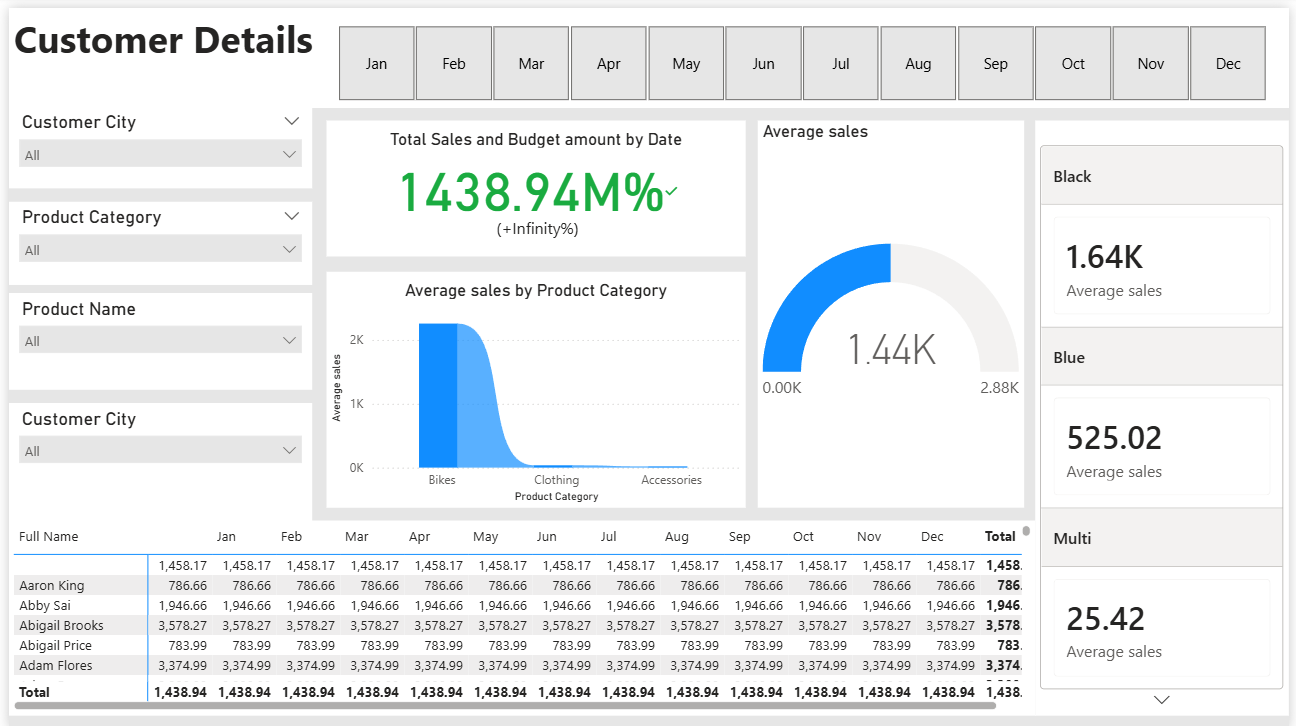

Layout of this report page (visuals, bound fields, positions):
{"tool":"powerbi","page":{"name":"Customer Details","canvas":[1280,720],"ordinal":1},"visuals":[{"type":"textbox","box":[0,0,1280,100],"z":0},{"type":"slicer","fields":{"Values":["Dimension Customer.Customer City"]},"box":[0,99.4,303.2,81.5],"z":1000},{"type":"slicer","fields":{"Values":["Dimension Customer.Customer City"]},"box":[0,394.9,303.2,312.1],"z":2000},{"type":"slicer","fields":{"Values":["Dimension Product.Product Name"]},"box":[0,285.4,303.2,96.8],"z":3000},{"type":"slicer","fields":{"Values":["Dimension Product.Product Category"]},"box":[0,193.6,303.2,82.8],"z":4000},{"type":"slicer","fields":{"Values":["Dimension Date.MonthShort"]},"box":[303.2,11.5,977.1,87.9],"z":5000},{"type":"kpi","fields":{"Indicator":["Measurements.Total Sales"],"TrendLine":["Dimension Date.Date"],"Goal":["Measurements.Budget amount"]},"box":[317.2,112.1,419.1,136.3],"z":6000},{"type":"ribbonChart","fields":{"Category":["Dimension Product.Product Category"],"Y":["Measurements.Average sales"]},"box":[317.2,263.7,419.1,235.7],"z":7000},{"type":"gauge","fields":{"Y":["Measurements.Average sales"]},"box":[749,112.1,266.2,387.3],"z":8000},{"type":"cardVisual","fields":{"Rows":["Dimension Product.Product Color"],"Data":["Measurements.Average sales"]},"box":[1026.8,112.1,253.5,594.9],"z":9000},{"type":"pivotTable","fields":{"Rows":["Dimension Customer.Full Name"],"Values":["Measurements.Average sales"],"Columns":["Dimension Date.MonthShort"]},"box":[0,512.1,1026.8,194.9],"z":10000}]}

Visuals, with their boxes in screenshot pixels (x1, y1, x2, y2), scaled from the page's 1280x720 canvas onto the 1296x726 screenshot:
textbox: (0, 0, 1295, 101)
slicer - Dimension Customer.Customer City: (0, 100, 307, 182)
slicer - Dimension Customer.Customer City: (0, 398, 307, 713)
slicer - Dimension Product.Product Name: (0, 288, 307, 385)
slicer - Dimension Product.Product Category: (0, 195, 307, 279)
slicer - Dimension Date.MonthShort: (307, 12, 1295, 100)
kpi - Measurements.Total Sales x Dimension Date.Date: (321, 113, 746, 250)
ribbonChart - Dimension Product.Product Category x Measurements.Average sales: (321, 266, 746, 504)
gauge - Measurements.Average sales: (758, 113, 1028, 504)
cardVisual - Dimension Product.Product Color x Measurements.Average sales: (1040, 113, 1295, 713)
pivotTable - Dimension Customer.Full Name x Measurements.Average sales: (0, 516, 1040, 713)
